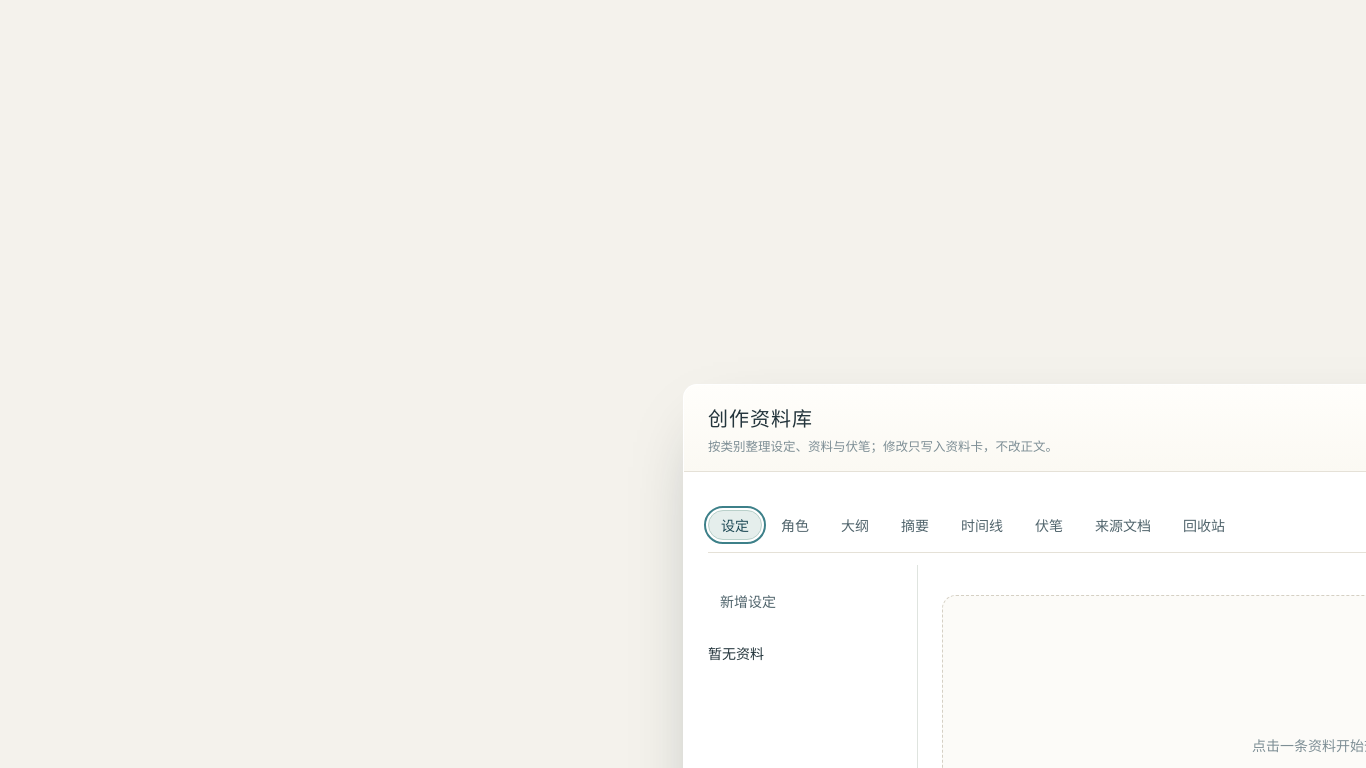
it: shows recycled cards read-only and allows restore only
Later steps or results of the test are not shown.
Click the button "回收站": (1204, 525) [1170,510,1238,540]
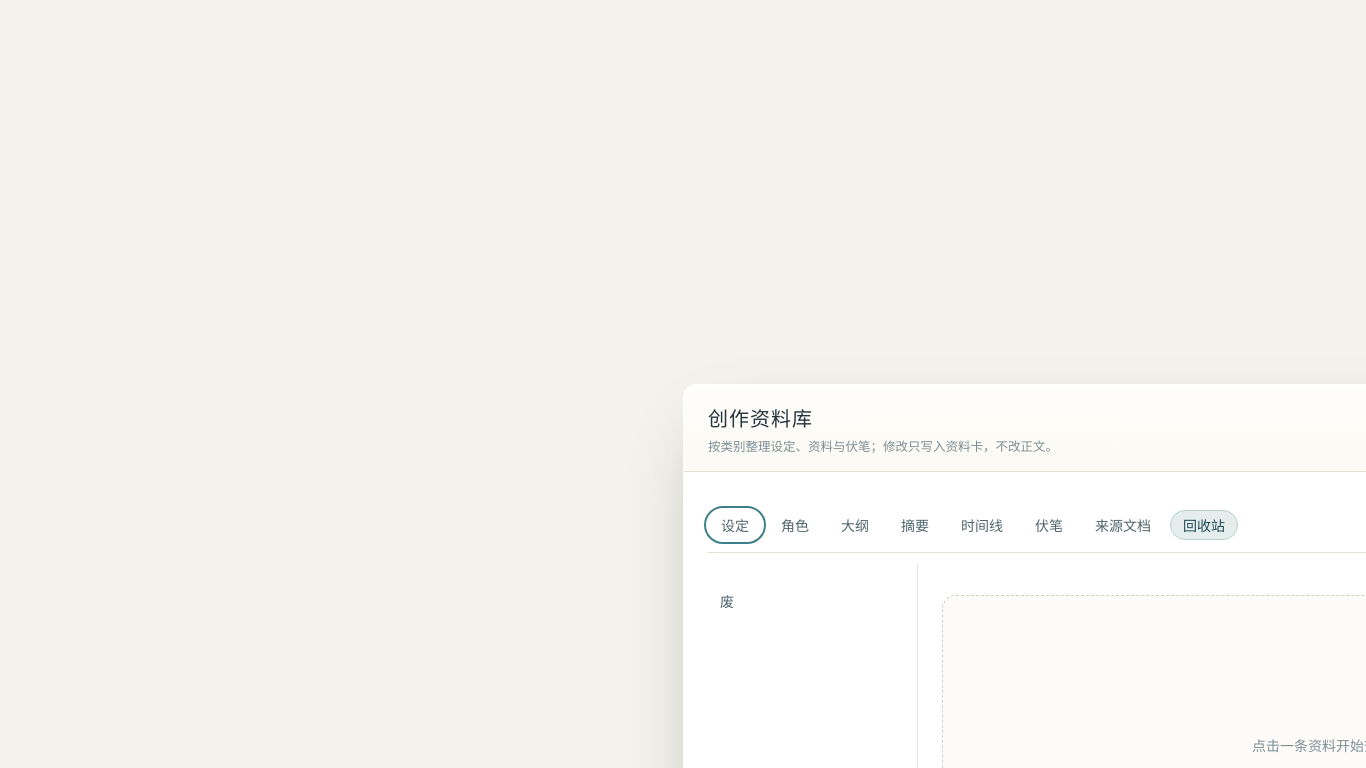
Check: the button "废" is shown, box [708,581,901,621]
